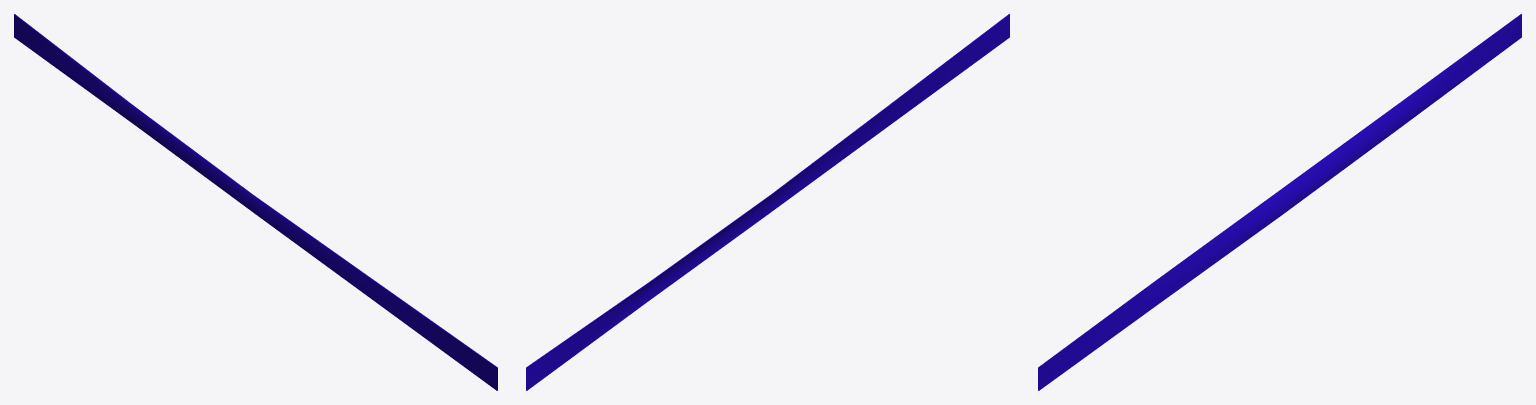
File: SM_Police_Line_1_2m.FBX
3 renders of one model, left to right at view 1: azimuth 30°, elevation 25°; view 2: azimuth 150°, elevation 25°; view 3: azimuth 330°, elevation 25°, orthographic.
Visible parts, largest first — view 1: Police_Line_1_2m; view 2: Police_Line_1_2m; view 3: Police_Line_1_2m.
Part boxes in pixels (x1,y1,x2,y2): Police_Line_1_2m: [14, 14, 497, 390]; Police_Line_1_2m: [526, 14, 1009, 390]; Police_Line_1_2m: [1038, 14, 1521, 390].
Bounding box in the file's own units: 1.51 × 5.6 × 200.
